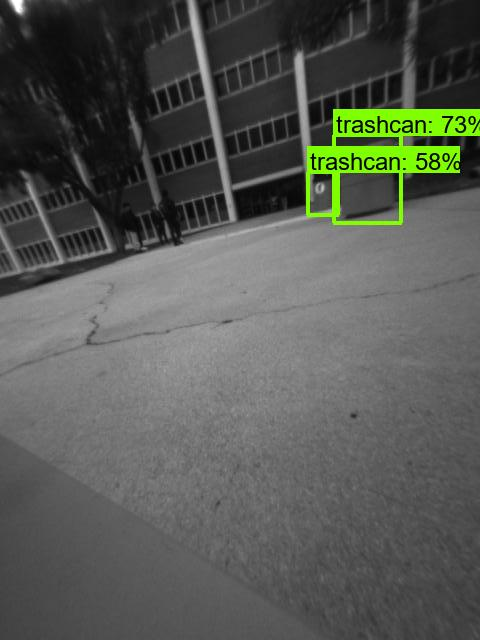trashcan: (335, 136, 397, 220), (307, 173, 339, 210)
